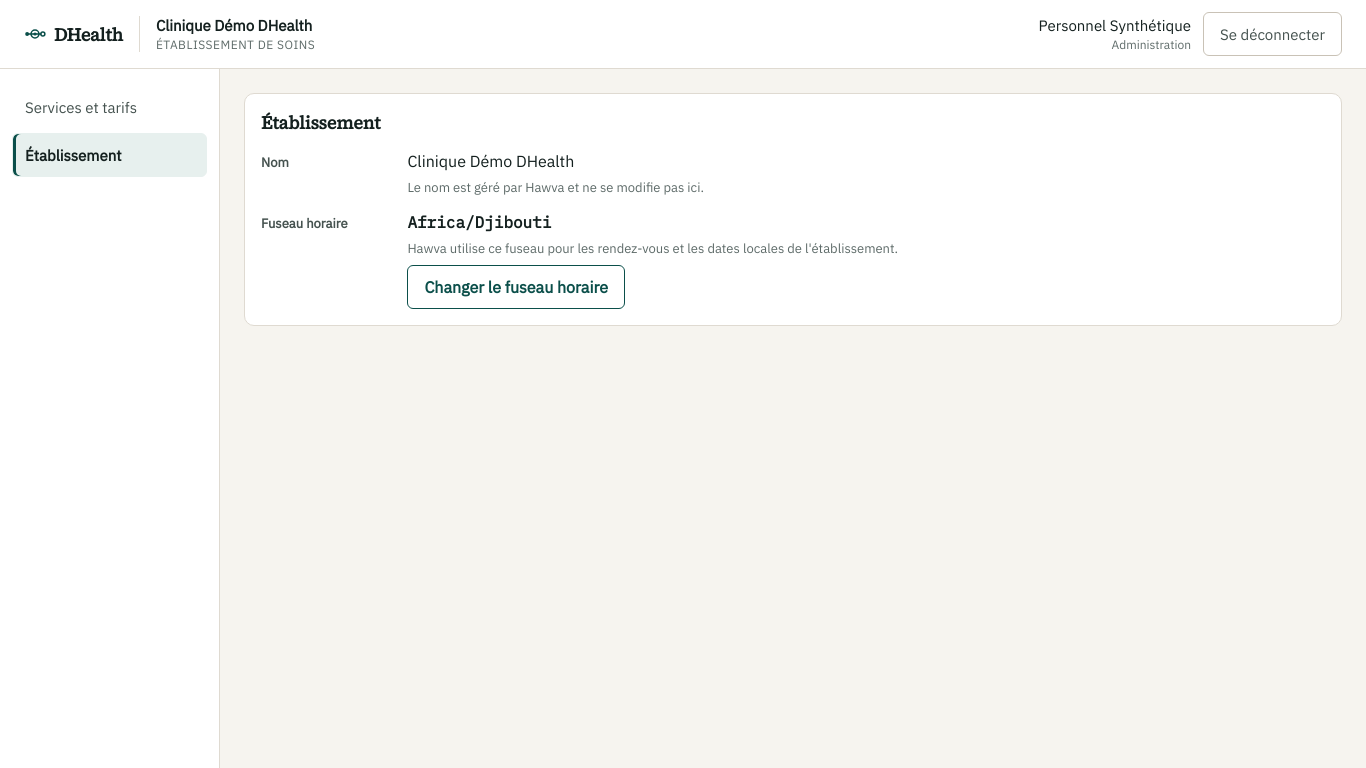
Scenario: changing the timezone › states what changes and that existing appointments do not move
expect the heading "Établissement" is shown: met, box [261,110,380,135]
expect the text "Africa/Djibouti" is shown: met, box [407,212,551,232]
Click the button "Changer le fuseau horaire": (516, 287) [407,265,625,309]
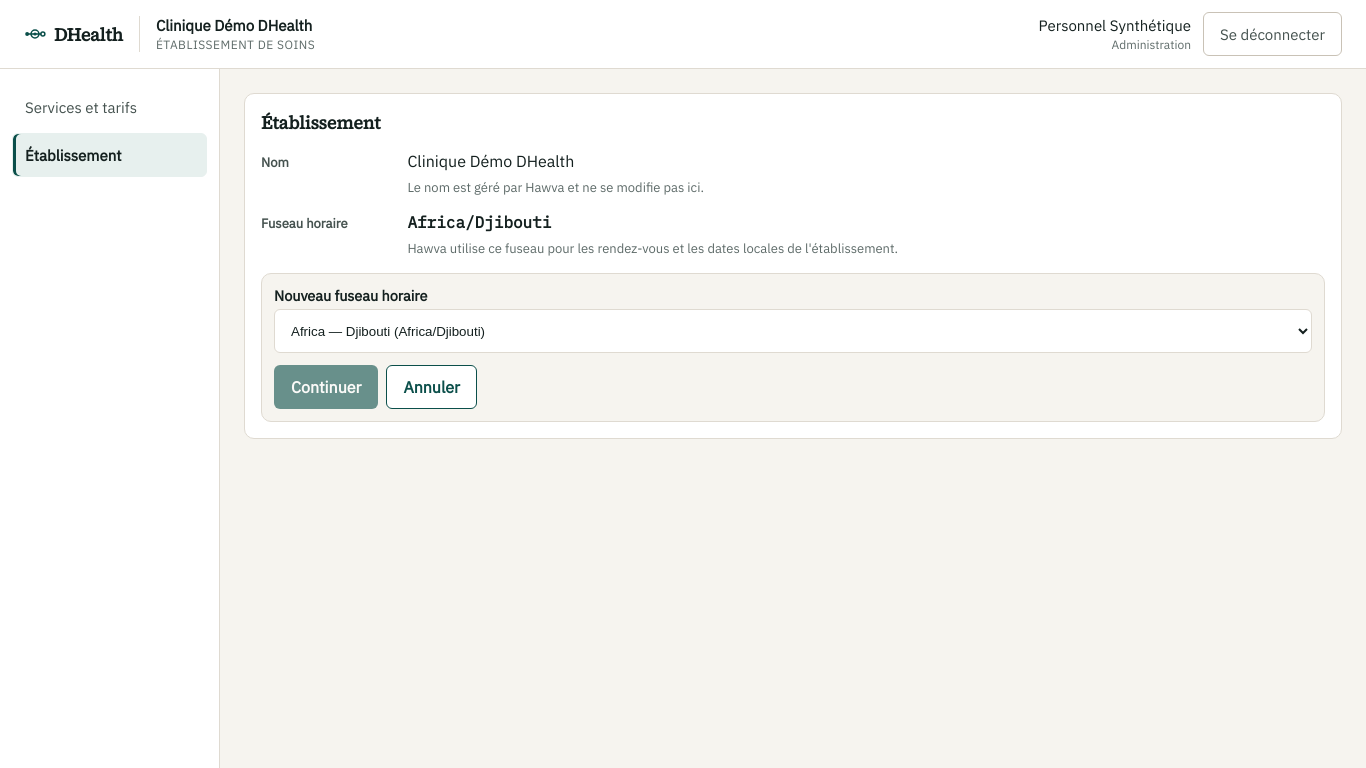
Select "America — Vancouver (America/Vancouver)" in the dropdown labelled "Nouveau fuseau horaire": (793, 331) [274,309,1312,353]
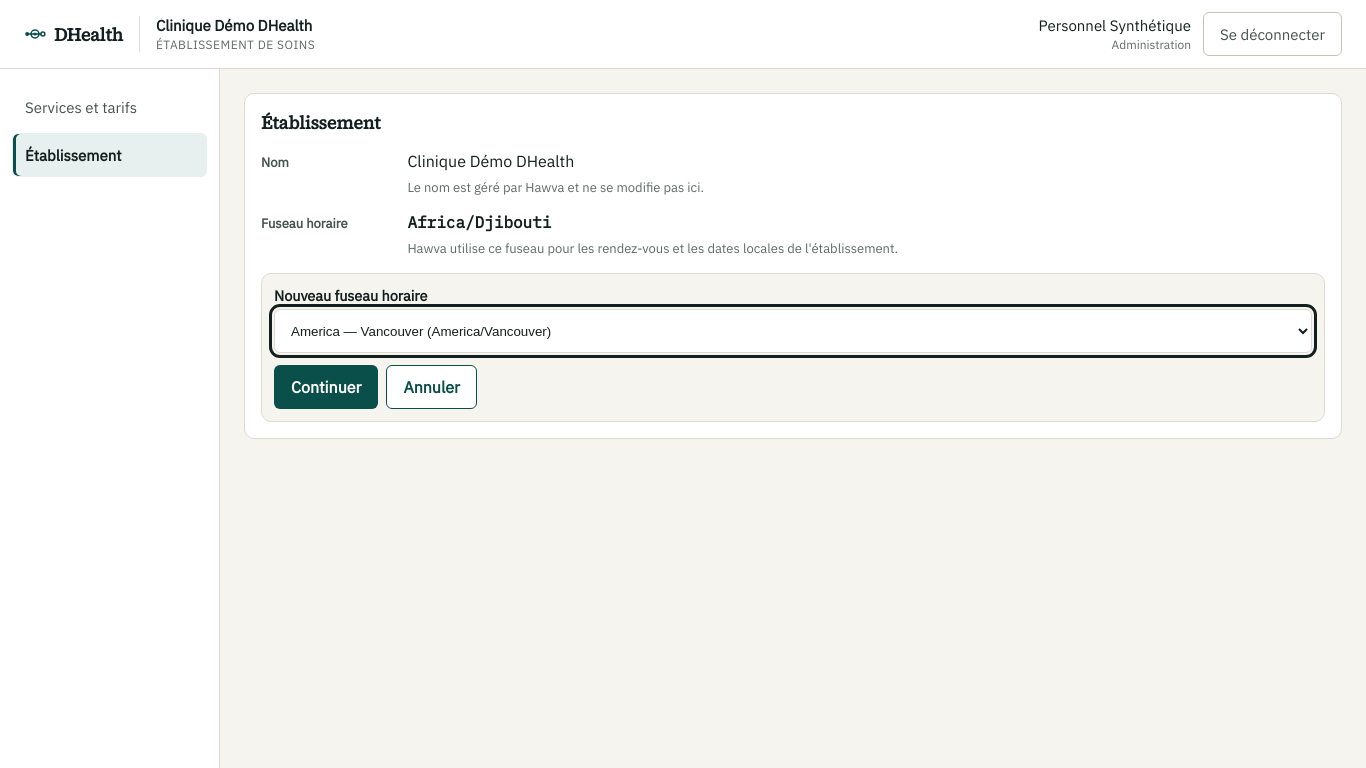
Click the button "Continuer": (326, 387) [274,365,378,409]
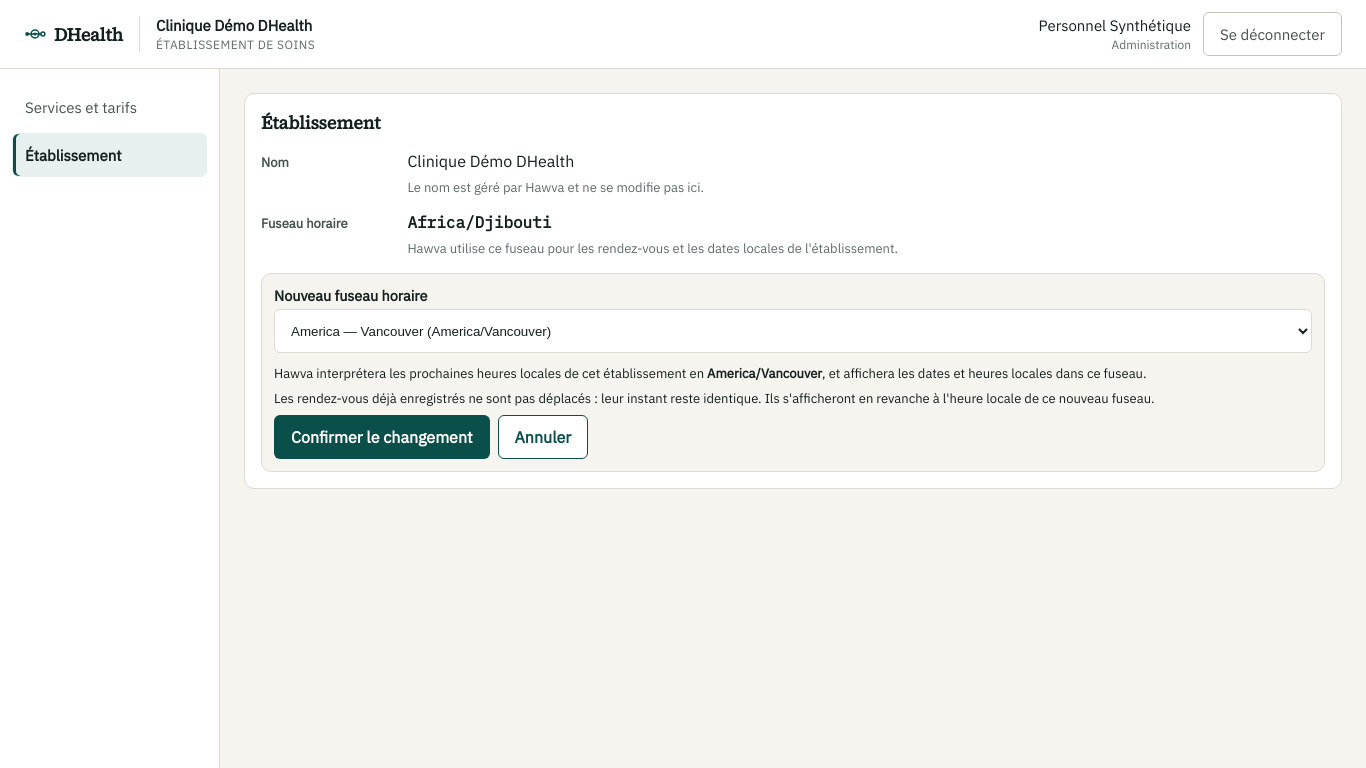
expect the text "afficheront" is shown: met, box [274,390,1155,407]
